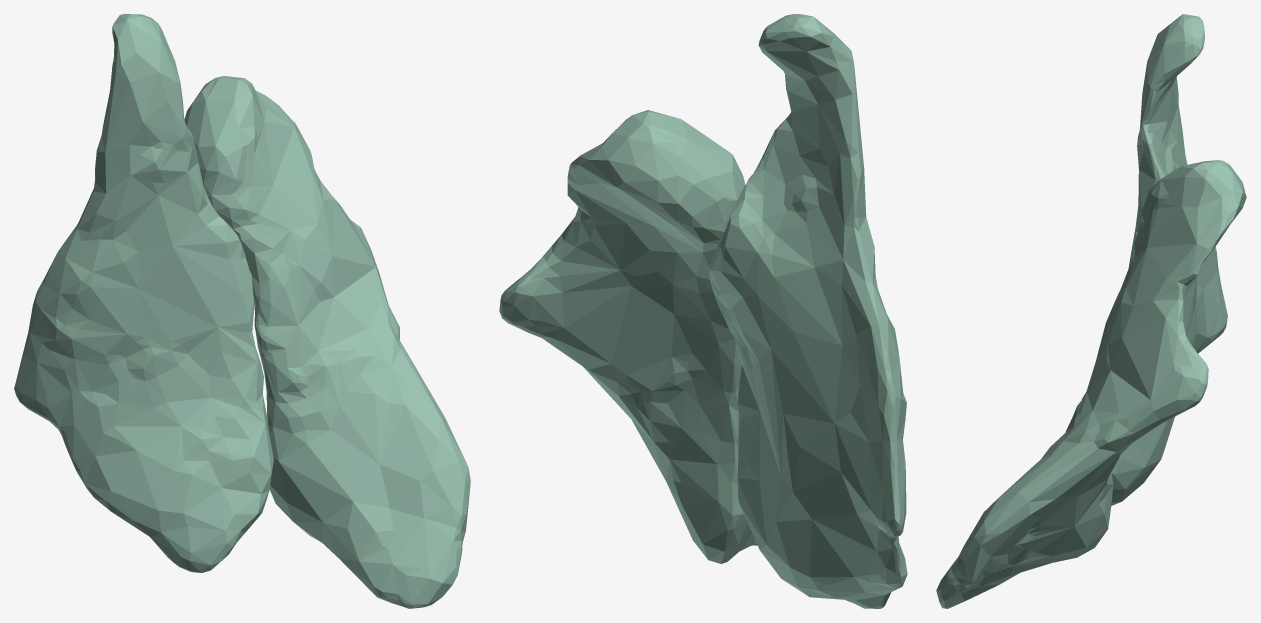
File: lymphatic.glb
The picture shows the model from 3 angles, left to right: view 1: azimuth 30°, elevation 25°; view 2: azimuth 150°, elevation 25°; view 3: azimuth 270°, elevation 25°; orthographic projection. The views are drawn at different scales.
Parts seen in each view (by area): view 1: FJ3151, FJ3150; view 2: FJ3151, FJ3150; view 3: FJ3150, FJ3151.
Part boxes in pixels (box(x1,y1,x2,y2)): FJ3151: box(14, 14, 273, 572); FJ3150: box(184, 76, 470, 608); FJ3151: box(709, 14, 907, 608); FJ3150: box(499, 110, 757, 563); FJ3150: box(936, 160, 1246, 608); FJ3151: box(1111, 14, 1227, 505).
Bounding box in the file's own units: 0.0466 × 0.0722 × 0.0395.
